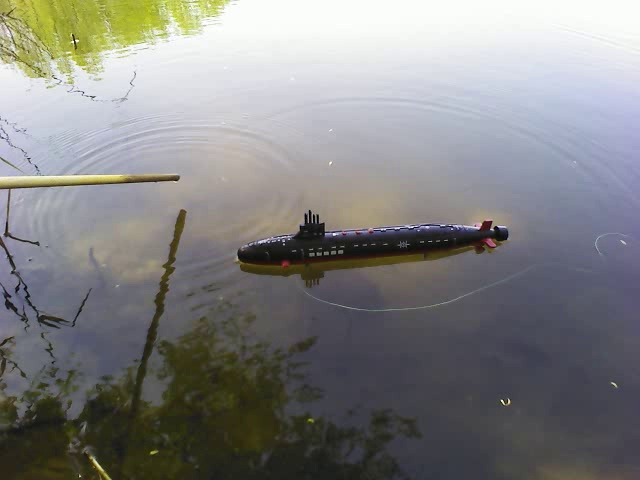submarine: (237, 202, 515, 273)
